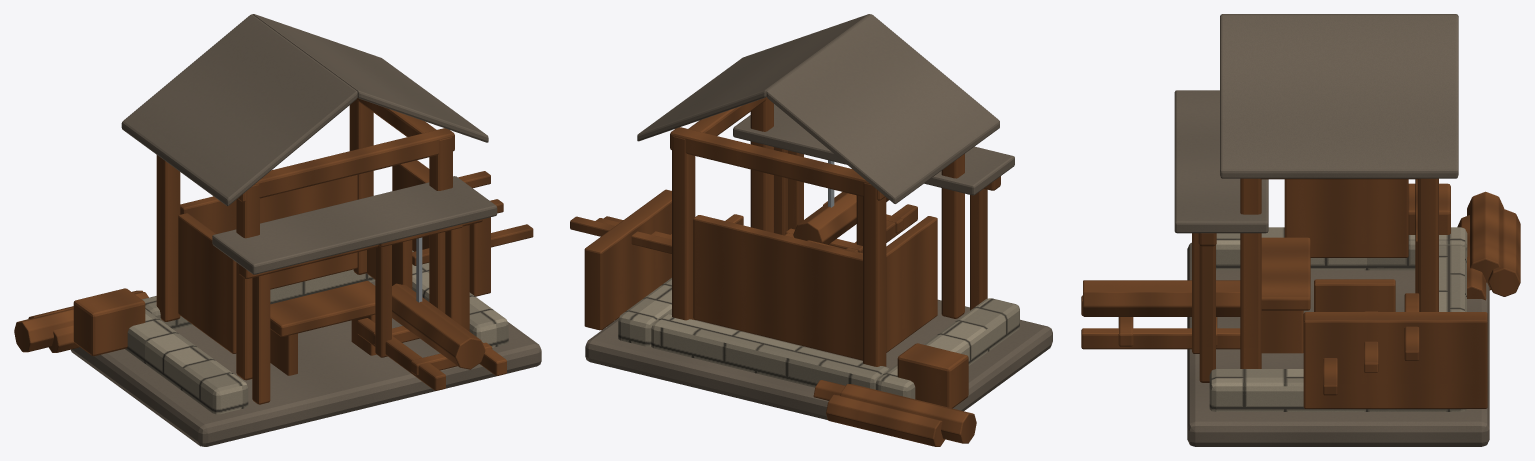
File: SawmillState2V1.glb
3 views of the same model, side by side, from view 1: azimuth 30°, elevation 25°; view 2: azimuth 150°, elevation 25°; view 3: azimuth 270°, elevation 25° (orthographic). The views are drawn at different scales.
Parts seen in each view (by area): view 1: Sawmill_State2_Roof, Sawmill_State2_Foundation, Sawmill_State2_WorkFace, Sawmill_State2_Frame, Sawmill_State2_Infill, Sawmill_State2_SawRig, Sawmill_State2_Storage; view 2: Sawmill_State2_Roof, Sawmill_State2_Foundation, Sawmill_State2_Infill, Sawmill_State2_Frame, Sawmill_State2_Storage, Sawmill_State2_WorkFace, Sawmill_State2_SawRig; view 3: Sawmill_State2_Roof, Sawmill_State2_Foundation, Sawmill_State2_Storage, Sawmill_State2_WorkFace, Sawmill_State2_Infill, Sawmill_State2_SawRig, Sawmill_State2_Frame.
Boxes of the visible parts, left/top/right/bottom form: Sawmill_State2_Roof: left=121, top=14, right=488, bottom=206; Sawmill_State2_Foundation: left=71, top=250, right=541, bottom=446; Sawmill_State2_WorkFace: left=212, top=176, right=497, bottom=404; Sawmill_State2_Frame: left=156, top=98, right=454, bottom=380; Sawmill_State2_Infill: left=178, top=175, right=412, bottom=353; Sawmill_State2_SawRig: left=357, top=224, right=506, bottom=390; Sawmill_State2_Storage: left=14, top=160, right=533, bottom=356; Sawmill_State2_Roof: left=637, top=14, right=999, bottom=203; Sawmill_State2_Foundation: left=585, top=278, right=1052, bottom=419; Sawmill_State2_Infill: left=693, top=214, right=937, bottom=360; Sawmill_State2_Frame: left=670, top=97, right=964, bottom=366; Sawmill_State2_Storage: left=570, top=189, right=976, bottom=446; Sawmill_State2_WorkFace: left=733, top=104, right=1014, bottom=310; Sawmill_State2_SawRig: left=784, top=150, right=917, bottom=253; Sawmill_State2_Roof: left=1220, top=14, right=1458, bottom=178; Sawmill_State2_Foundation: left=1187, top=227, right=1489, bottom=446; Sawmill_State2_Storage: left=1303, top=183, right=1520, bottom=408; Sawmill_State2_WorkFace: left=1174, top=90, right=1310, bottom=382; Sawmill_State2_Infill: left=1284, top=179, right=1417, bottom=311; Sawmill_State2_SawRig: left=1081, top=233, right=1240, bottom=353; Sawmill_State2_Frame: left=1240, top=178, right=1438, bottom=368.
Bounding box in the file's own units: 6.91 × 4.62 × 5.37.
Materials: 7 (6 with a texture image).
